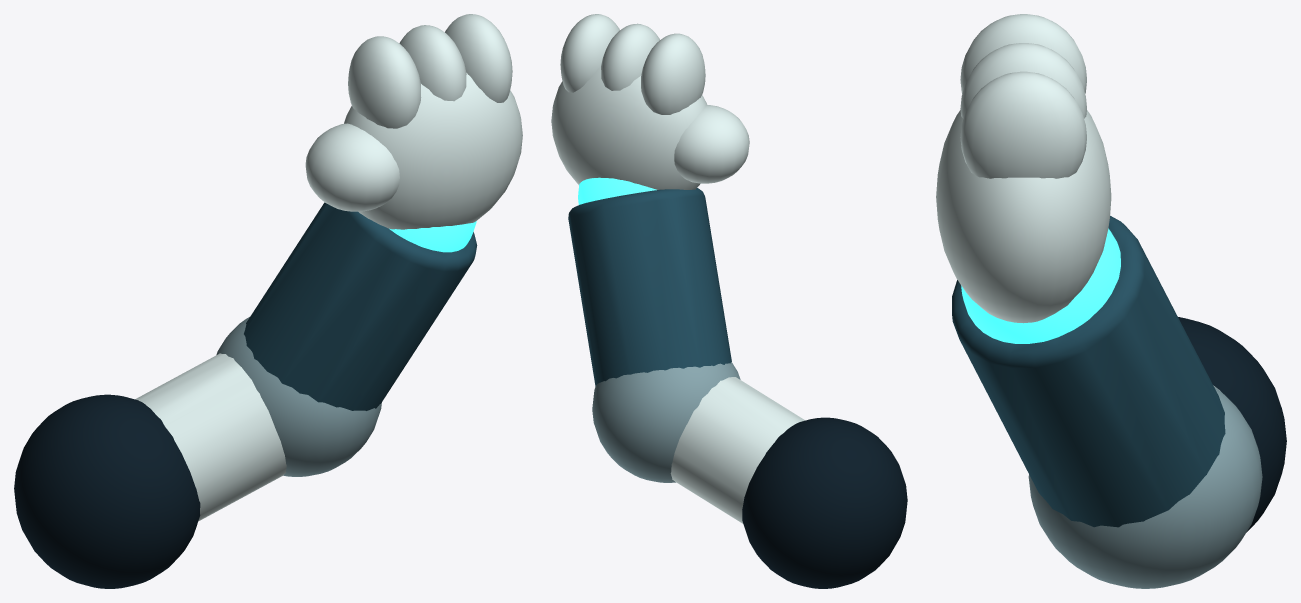
The model's file is SM_PATCH_Arm_R.fbx.
3 views of the same model, side by side, from view 1: azimuth 30°, elevation 25°; view 2: azimuth 150°, elevation 25°; view 3: azimuth 270°, elevation 25° (orthographic). The views are drawn at different scales.
Visible parts, largest first — view 1: SM_PATCH_Arm_R; view 2: SM_PATCH_Arm_R; view 3: SM_PATCH_Arm_R.
Boxes of the visible parts, left/top/right/bottom form: SM_PATCH_Arm_R: left=14, top=14, right=522, bottom=588; SM_PATCH_Arm_R: left=551, top=14, right=907, bottom=588; SM_PATCH_Arm_R: left=936, top=14, right=1286, bottom=588.
Size of the model in its own units: 67.3 by 36 by 77.2.
